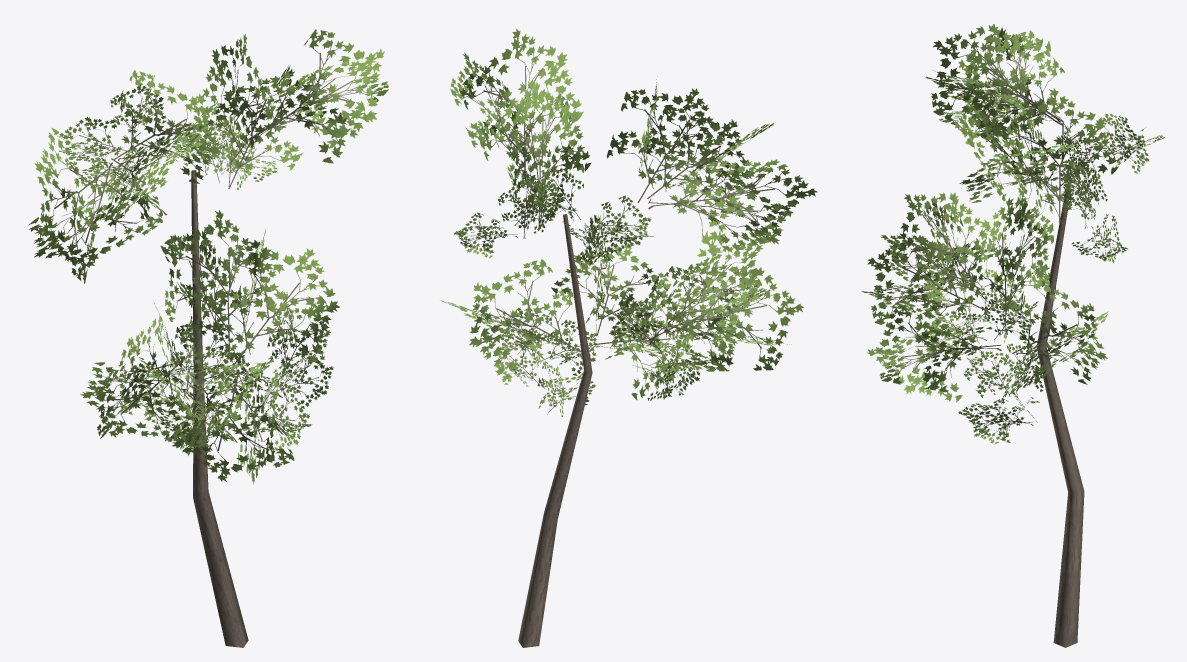
The model's file is tree_Shrub_Maple_LOD1.fbx.
3 renders of one model, left to right at view 1: azimuth 30°, elevation 25°; view 2: azimuth 150°, elevation 25°; view 3: azimuth 270°, elevation 25°, orthographic. The views are drawn at different scales.
Visible parts, largest first — view 1: Shrub_Maple_LOD1; view 2: Shrub_Maple_LOD1; view 3: Shrub_Maple_LOD1.
Boxes of the visible parts, x1,y1,x2,y2 form: Shrub_Maple_LOD1: (29, 29, 388, 647); Shrub_Maple_LOD1: (440, 29, 817, 647); Shrub_Maple_LOD1: (861, 24, 1164, 647).
Bounding box in the file's own units: 256 × 406 × 205.
